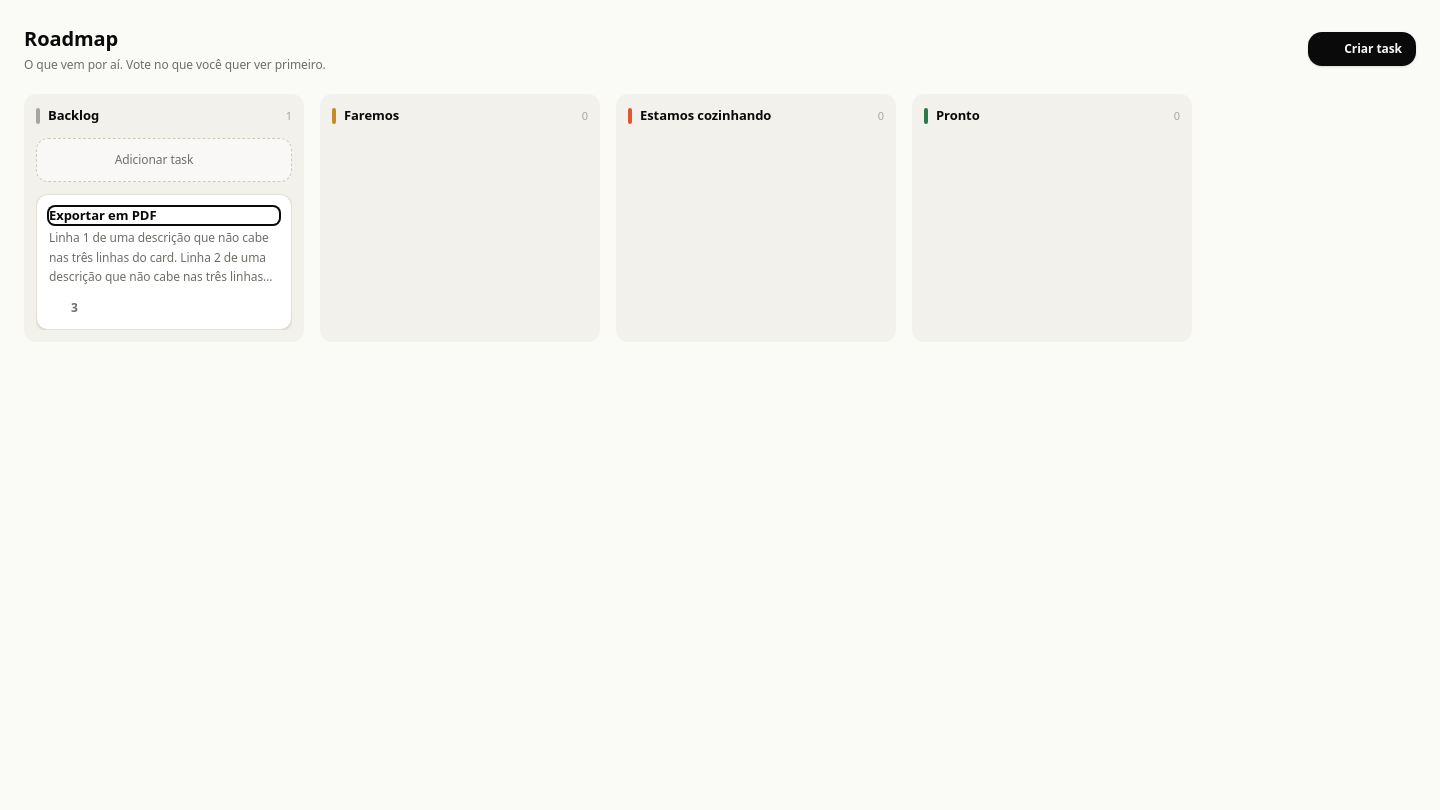
roadmap — popup de detalhe do card › ESC fecha e o foco VOLTA para o gatilho
Click the button with test id "abrir-detalhe-c1" at (164, 215), box [49, 206, 279, 224]
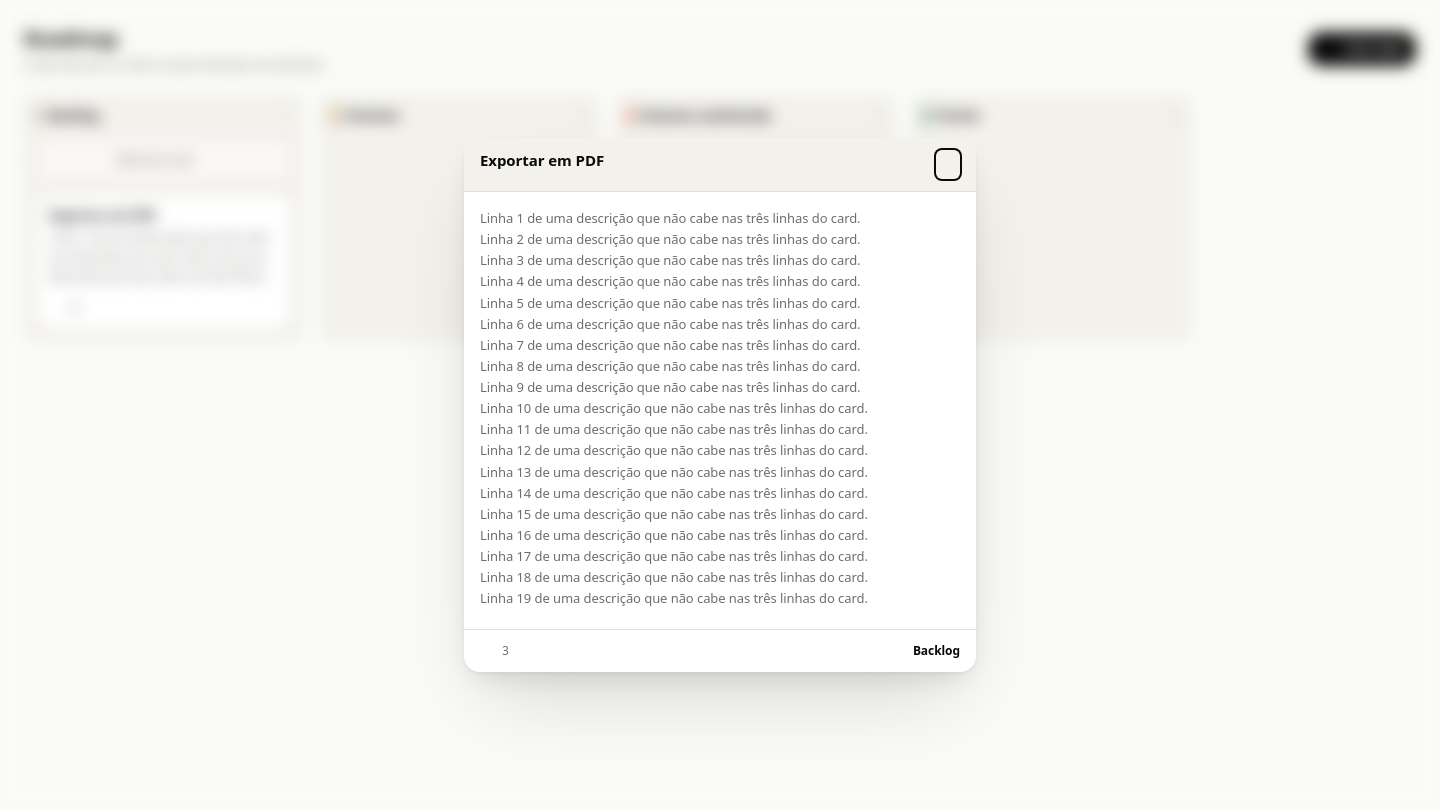
Now the dialog with test id "detalhe-popup" is shown, box [464, 138, 976, 672]
Press Escape
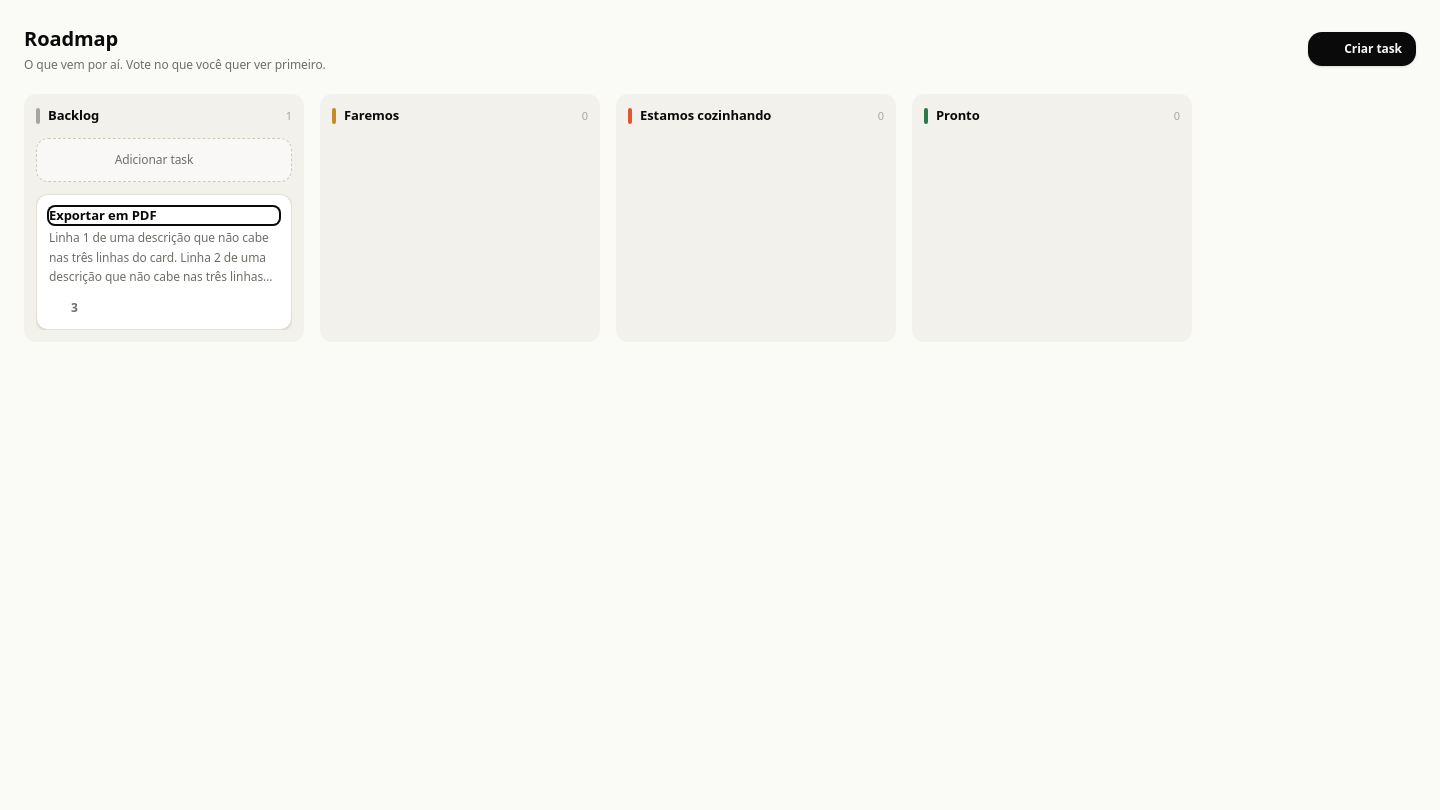
Now the dialog with test id "detalhe-popup" is gone
